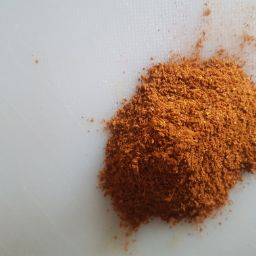Cinemon powder: (81, 3, 256, 246), (95, 40, 256, 238)
